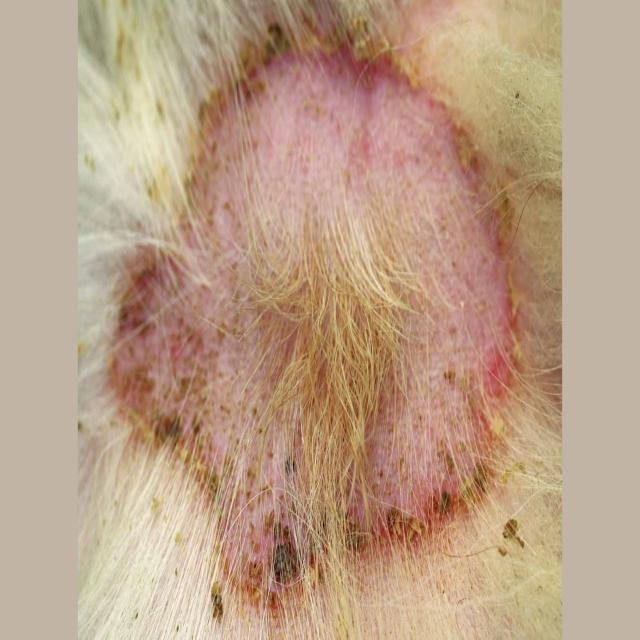viem da do vi khuan (cho): (78, 0, 561, 640)
